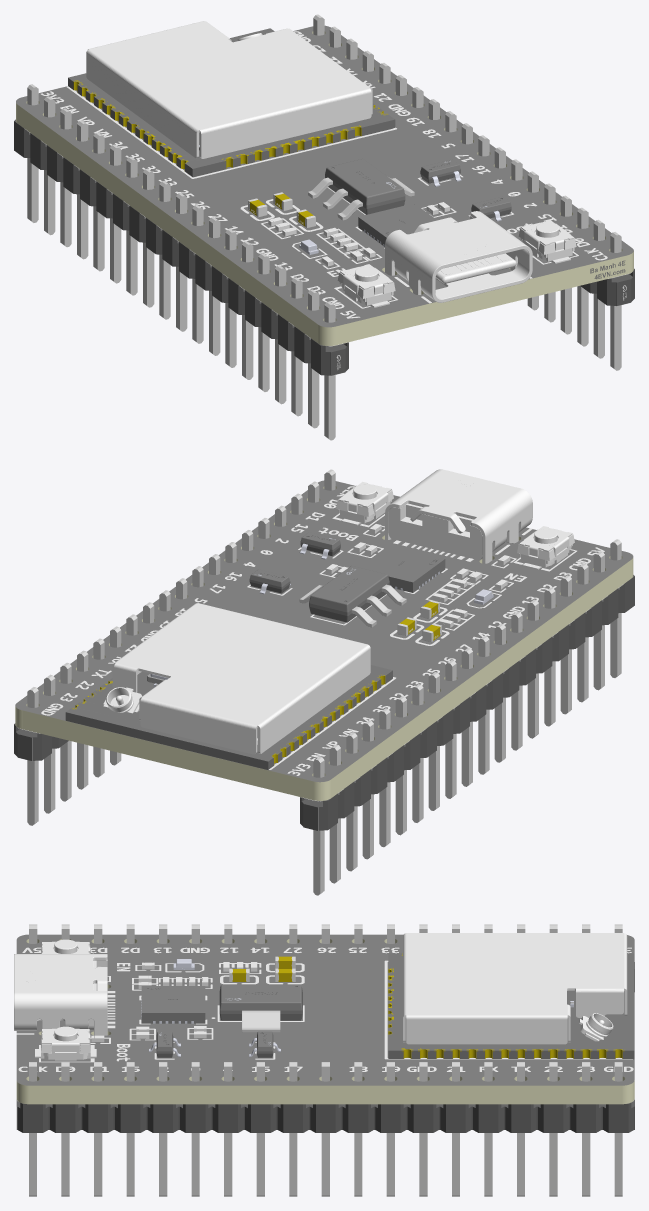
The picture shows the model from 3 angles, top to bottom: view 1: azimuth 30°, elevation 25°; view 2: azimuth 150°, elevation 25°; view 3: azimuth 270°, elevation 25°; orthographic projection.
Visible parts, largest first — view 1: Node3, Node9, Node14, Node12, Node10, Node2, Node11, Node4, Node1, Node19; view 2: Node3, Node9, Node14, Node12, Node10, Node2, Node11, Node4, Node1, Node19; view 3: Node3, Node14, Node9, Node10, Node12, Node2, Node11, Node1, Node4, Node19, Node15, Node5.
Boxes of the visible parts, left/top/right/bottom form: Node3: left=16, top=25, right=633, bottom=327; Node9: left=27, top=14, right=626, bottom=440; Node14: left=86, top=21, right=372, bottom=360; Node12: left=16, top=31, right=633, bottom=345; Node10: left=14, top=119, right=634, bottom=375; Node2: left=25, top=34, right=631, bottom=346; Node11: left=68, top=28, right=395, bottom=177; Node4: left=251, top=202, right=626, bottom=370; Node1: left=41, top=31, right=607, bottom=318; Node19: left=73, top=80, right=387, bottom=171; Node3: left=15, top=480, right=633, bottom=782; Node9: left=27, top=469, right=621, bottom=895; Node14: left=103, top=603, right=370, bottom=754; Node12: left=15, top=486, right=633, bottom=800; Node10: left=14, top=575, right=634, bottom=830; Node2: left=18, top=469, right=623, bottom=801; Node11: left=65, top=665, right=392, bottom=769; Node4: left=326, top=481, right=574, bottom=638; Node1: left=41, top=486, right=604, bottom=775; Node19: left=72, top=675, right=385, bottom=765; Node3: left=16, top=934, right=634, bottom=1085; Node14: left=403, top=933, right=627, bottom=1044; Node9: left=16, top=924, right=622, bottom=1196; Node10: left=16, top=962, right=634, bottom=1132; Node12: left=16, top=939, right=634, bottom=1104; Node2: left=14, top=954, right=622, bottom=1100; Node11: left=388, top=953, right=634, bottom=1059; Node1: left=16, top=947, right=633, bottom=1071; Node4: left=35, top=939, right=257, bottom=1060; Node19: left=388, top=953, right=624, bottom=1058; Node15: left=232, top=956, right=292, bottom=981; Node5: left=141, top=959, right=280, bottom=1057.
Bounding box in the file's own units: 27.93 × 13.23 × 48.48.
